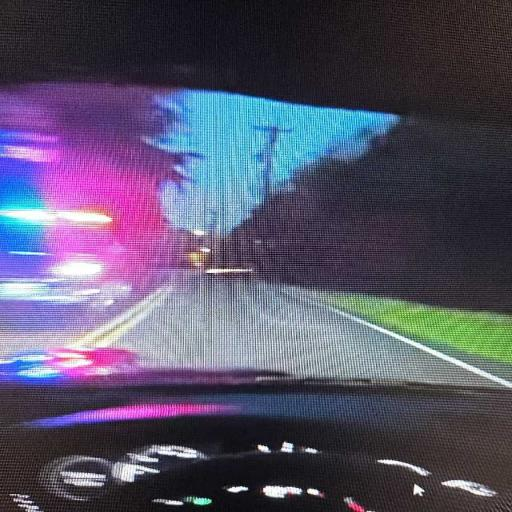car: (0, 348, 511, 511), (0, 209, 134, 315)
lane: (112, 273, 495, 385)
